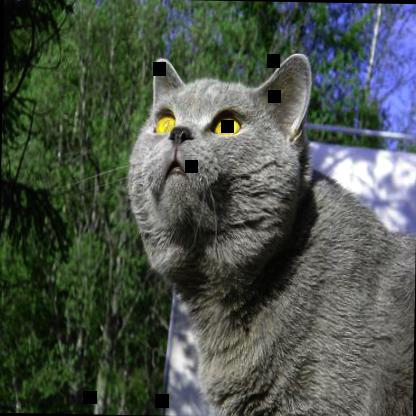cat: (122, 48, 415, 415)
